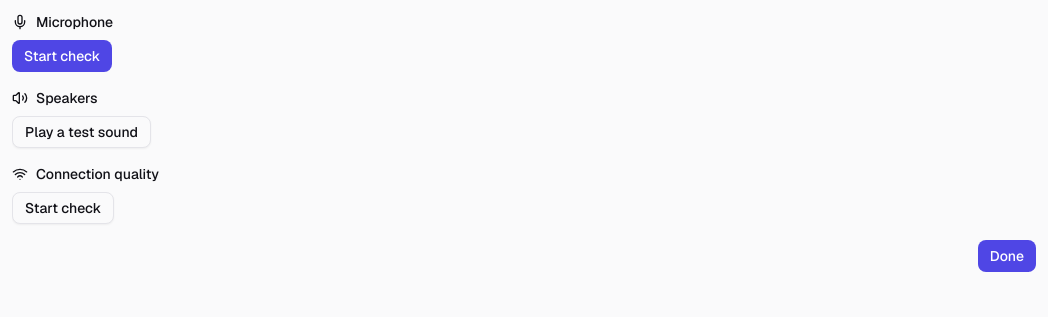
Test: MicCheck › measures the connection with the health endpoint and shows the verdict
Click the button with test id "mic-check-network" at point(63, 208), box x1=12 y1=192 x2=114 y2=224
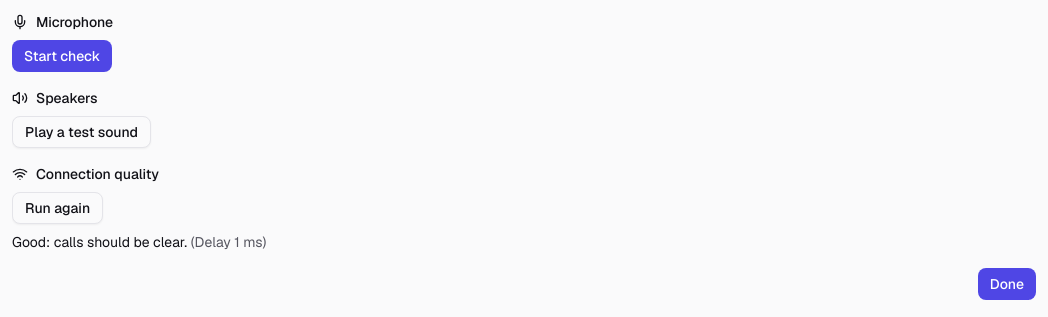
expect the element with test id "mic-check-quality" is shown: met, box x1=12 y1=233 x2=266 y2=251
